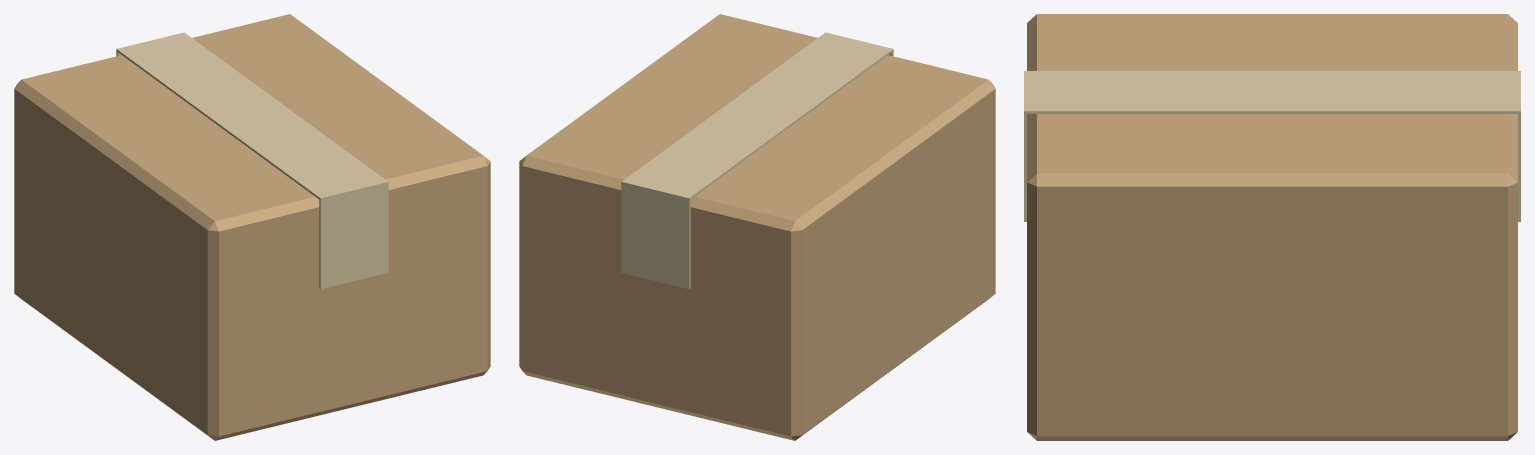
The picture shows the model from 3 angles, left to right: view 1: azimuth 30°, elevation 25°; view 2: azimuth 150°, elevation 25°; view 3: azimuth 270°, elevation 25°; orthographic projection. The views are drawn at different scales.
Visible parts, largest first — view 1: box_60; view 2: box_60; view 3: box_60.
Part boxes in pixels (x1=…): box_60: x1=14, y1=14, x2=490, y2=440; box_60: x1=519, y1=14, x2=995, y2=440; box_60: x1=1024, y1=14, x2=1520, y2=440.
Bounding box in the file's own units: 0.2 × 0.15 × 0.25.
